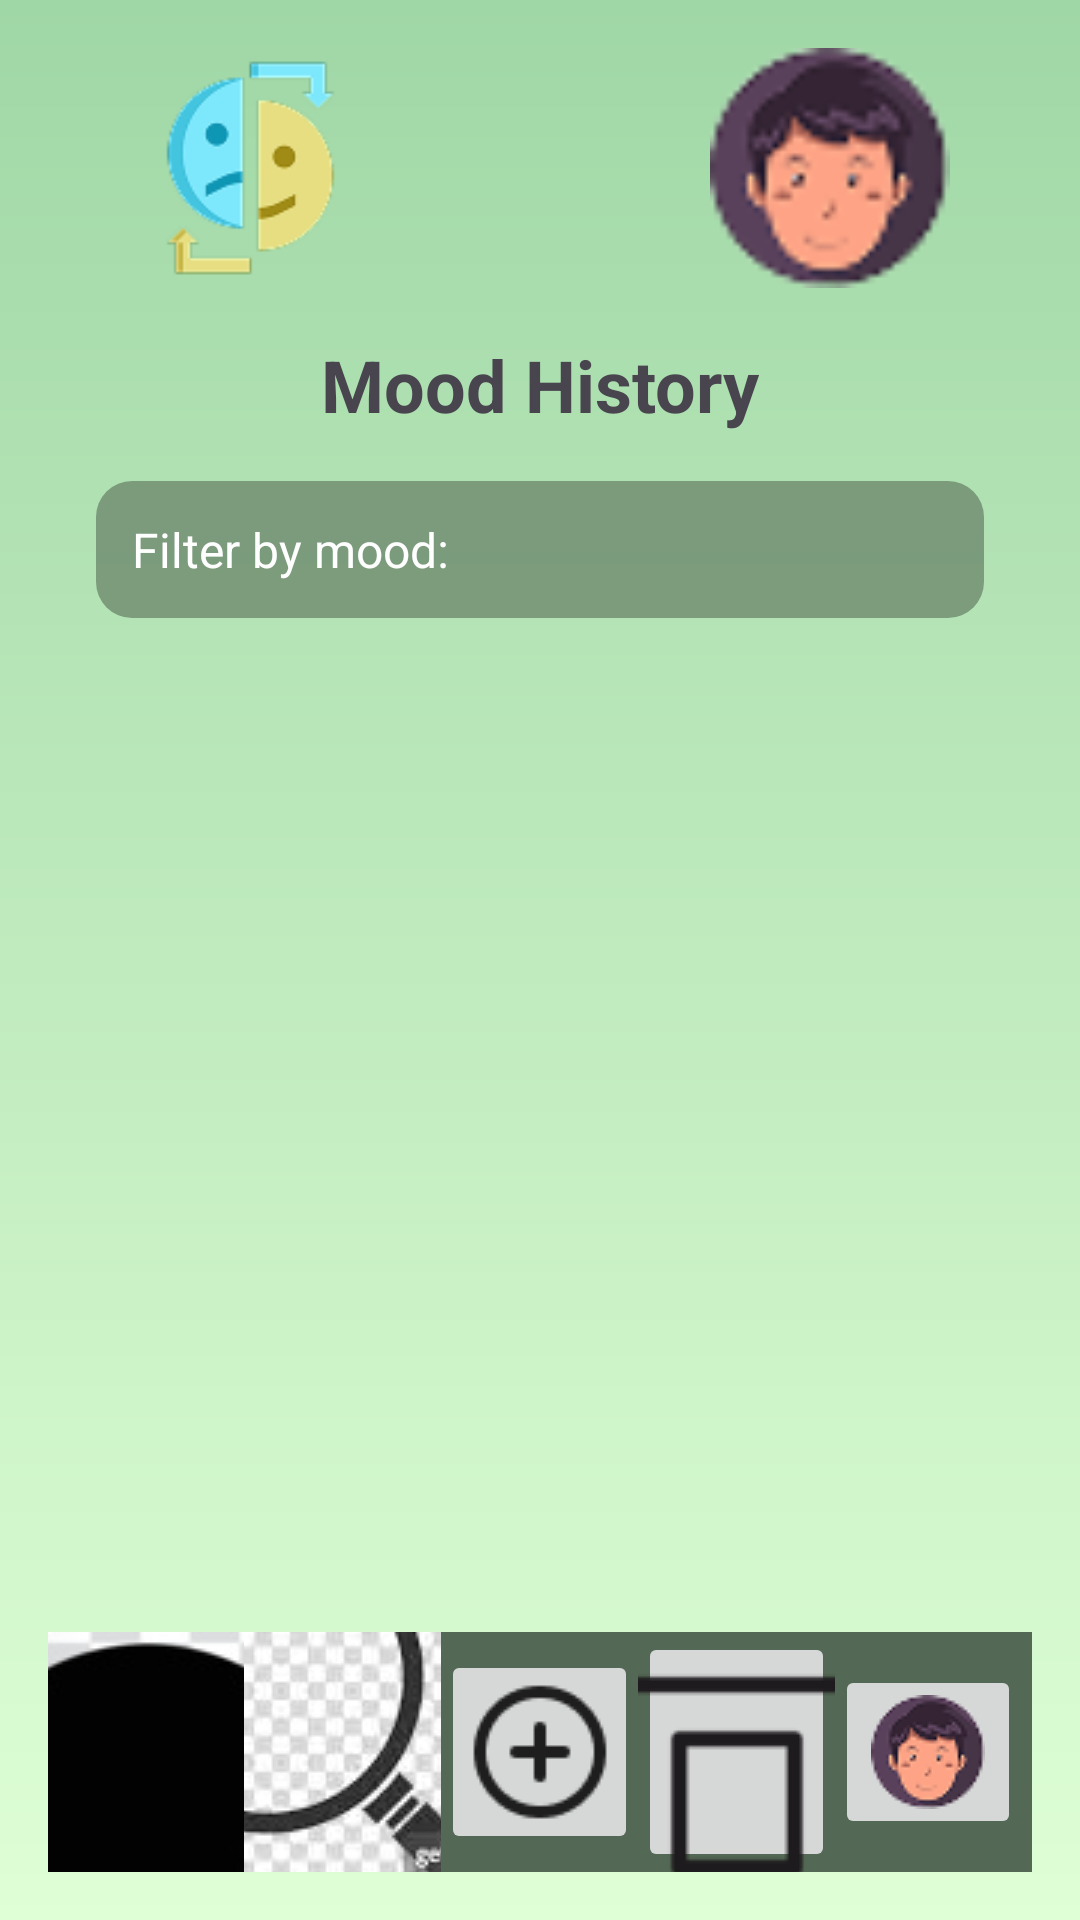

Point at icon controls on the screen. Image size 1080 x 1920, points as point (x, y).
plus circle: point (539, 1752)
